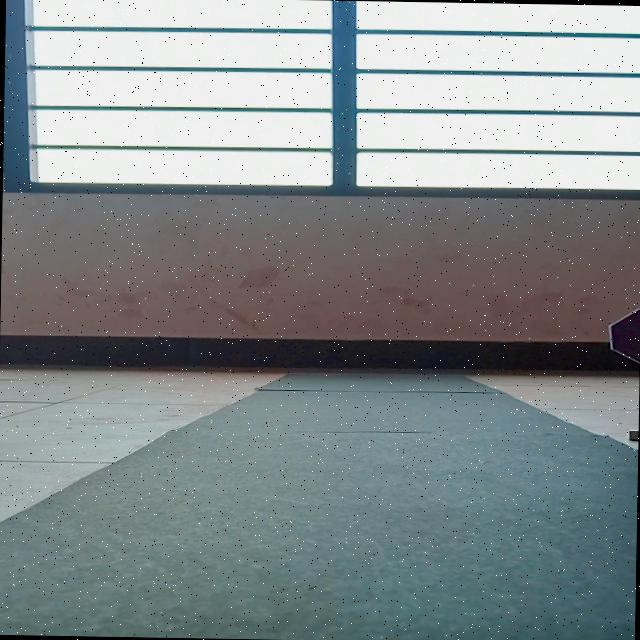Stop: (605, 305, 640, 365)
